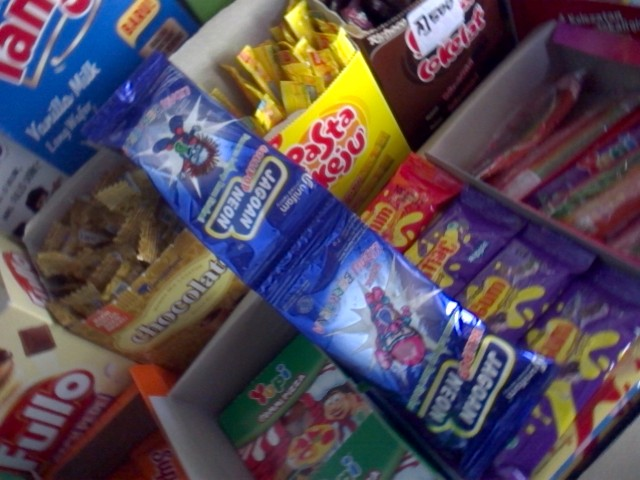jagoan neon: (266, 206, 557, 477), (86, 53, 336, 305)
